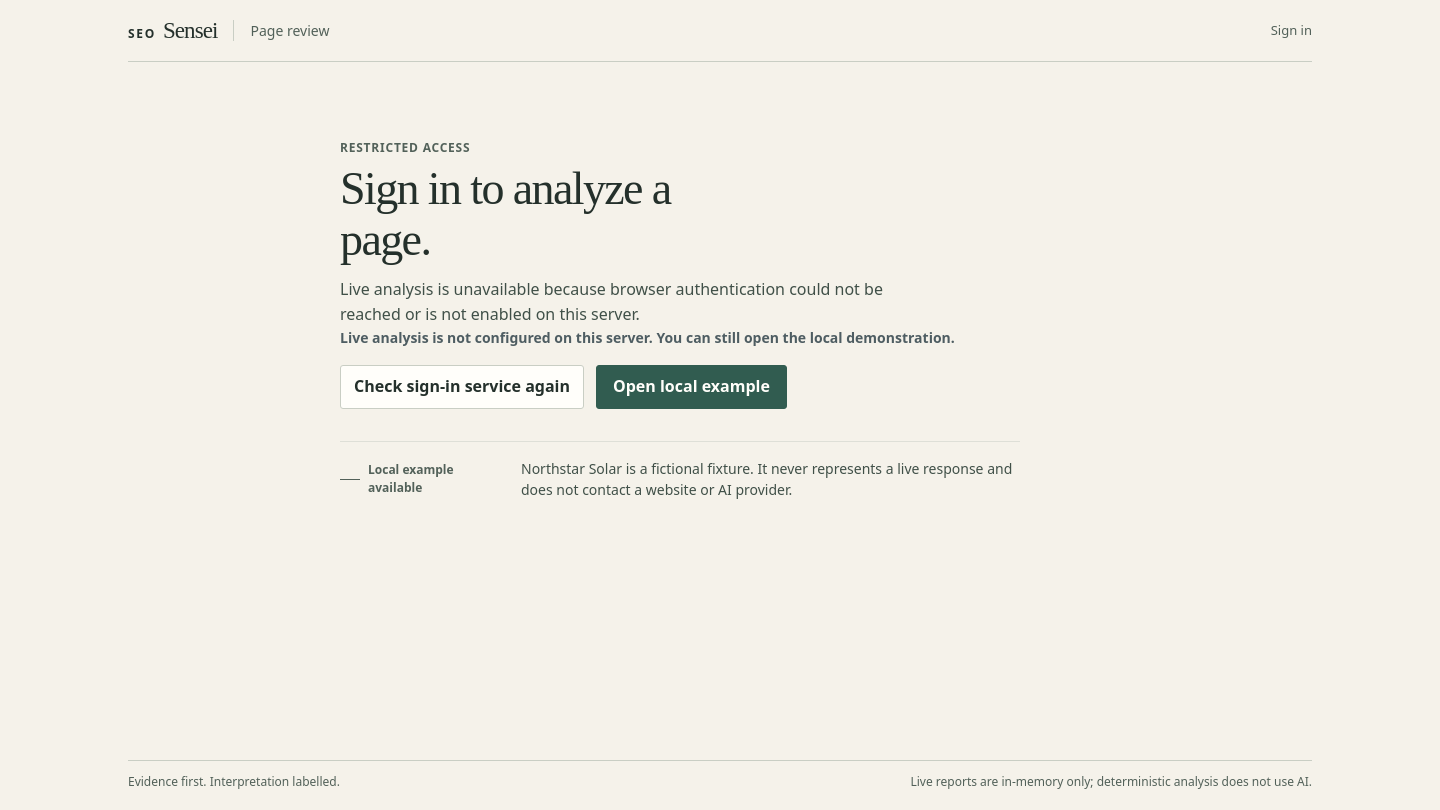
Test: Evidence Ledger authenticated application › opens the explicit local demo and keeps its noindex fixture ahead of the score
Click the button "Open local example": [691, 386] box [596,364,787,408]
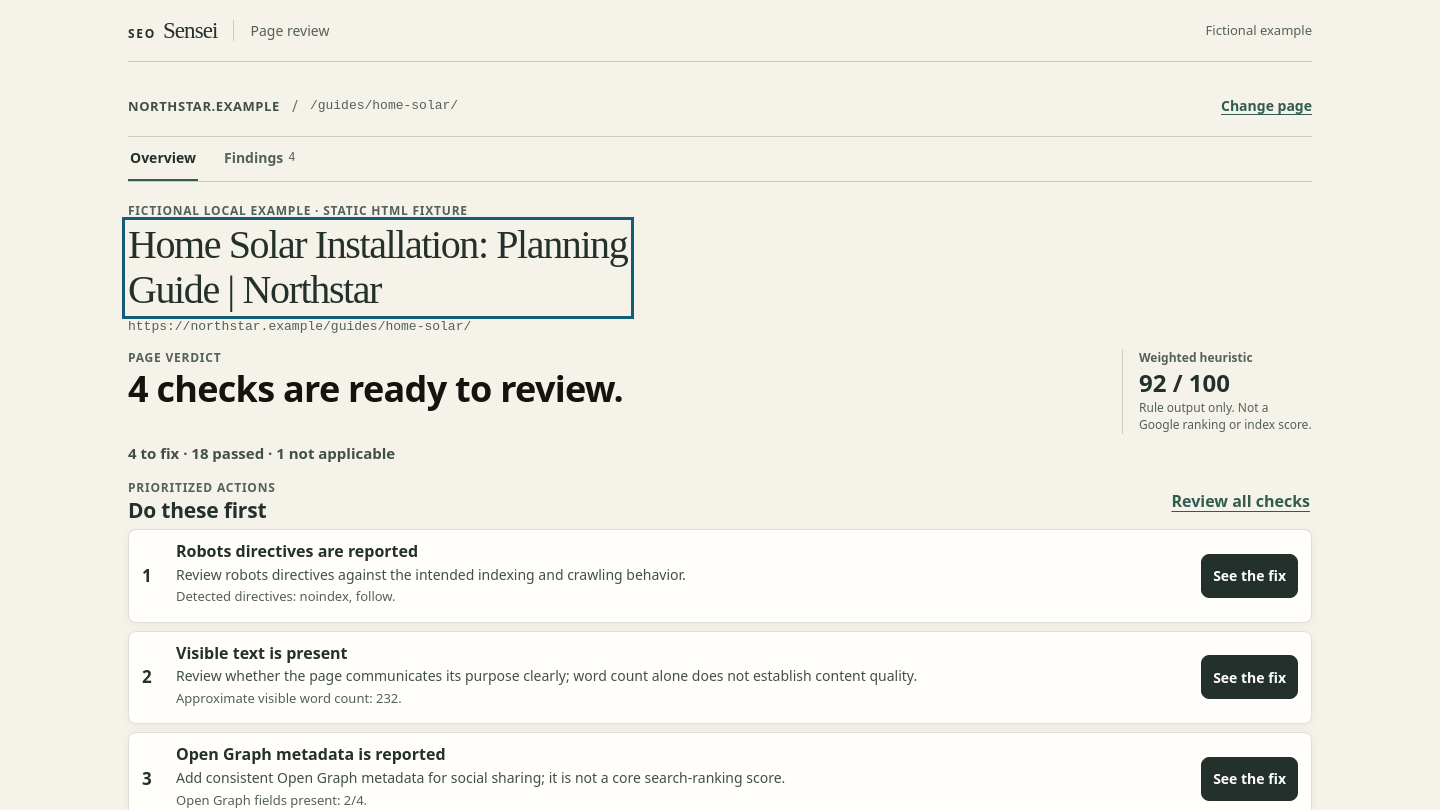
Expected: the heading "Robots directives are reported" is shown, [176,540,418,562]
Expected: the text "Fictional local example · static HTML fixture" is shown, [128,202,468,219]
Expected: the text "Detected directives: noindex, follow." is shown, [176,588,396,606]
